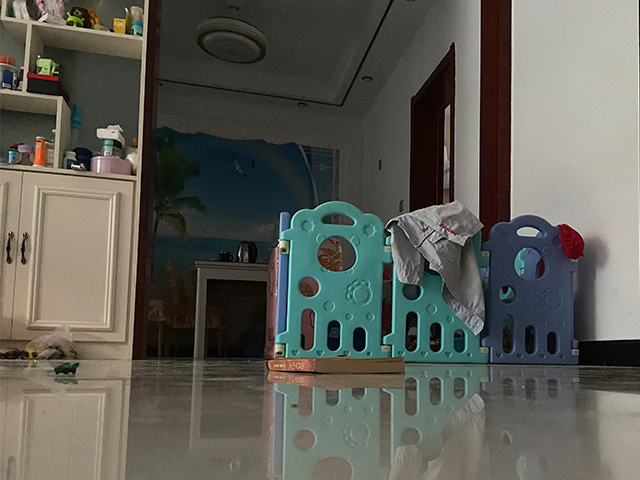book: (266, 355, 407, 376)
cabinet: (1, 163, 140, 362)
stool: (160, 253, 230, 356)
table: (190, 258, 271, 359)
